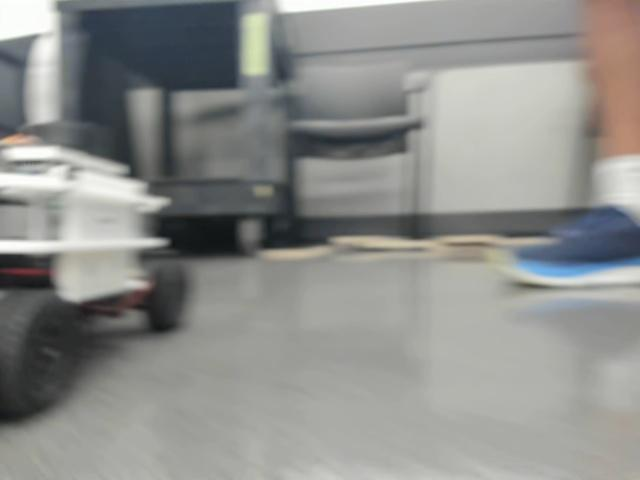Car: (1, 121, 187, 419)
